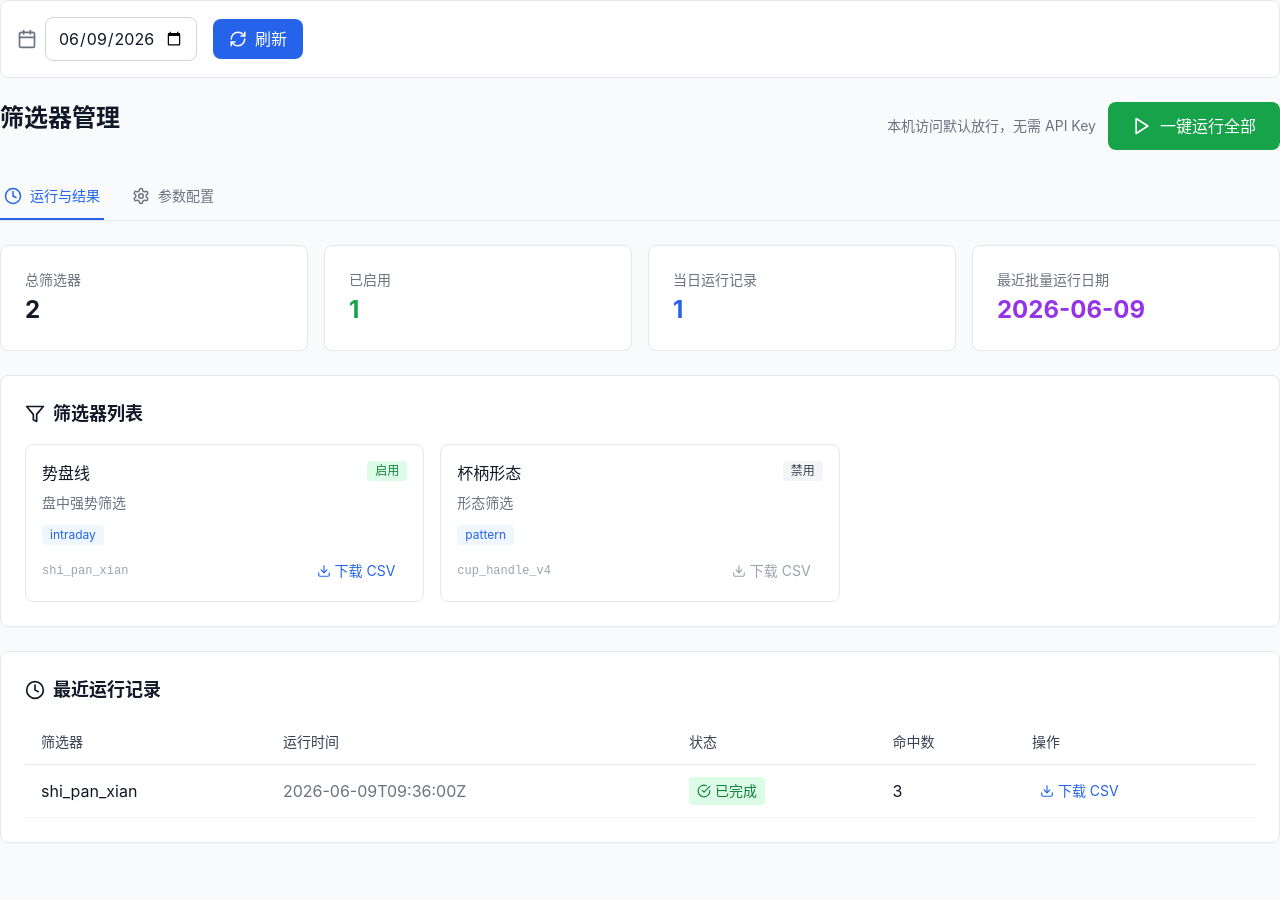
it: Screeners › shows http status when download fails
Expected: the heading "势盘线" is shown, [42,461,90,485]
Step 1. Click the button "下载 CSV" below "intraday" → (356, 571), box [304,557,407,585]
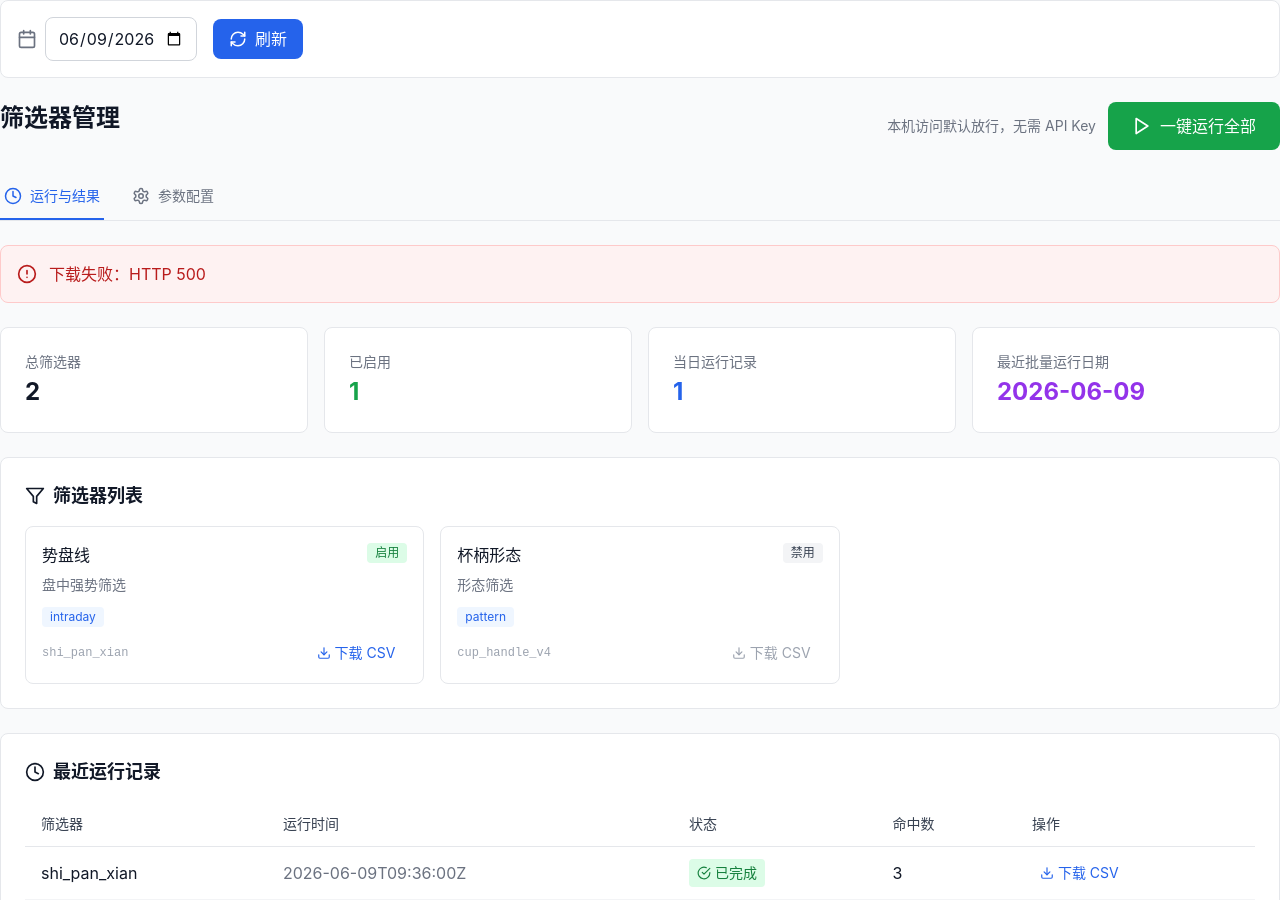
Expected: the text "下载失败：HTTP 500" is shown, [49,262,206,286]
